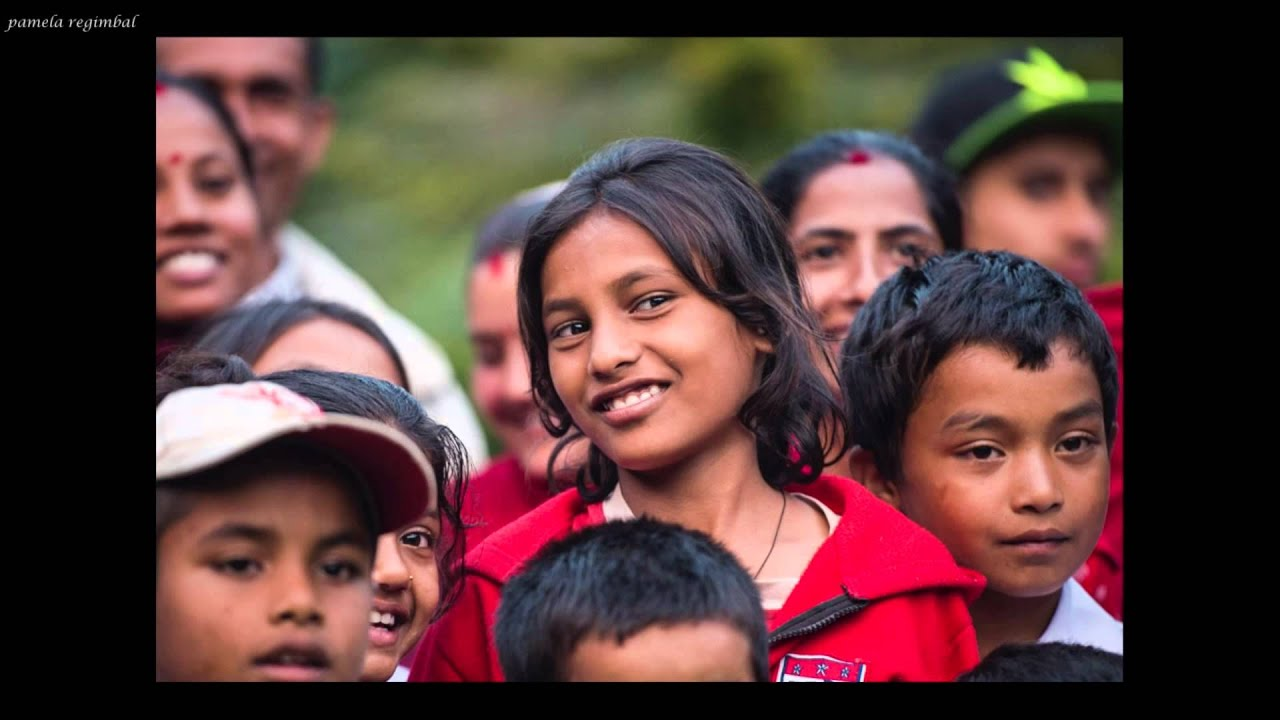human: (430, 140, 993, 690), (832, 238, 1139, 663)
